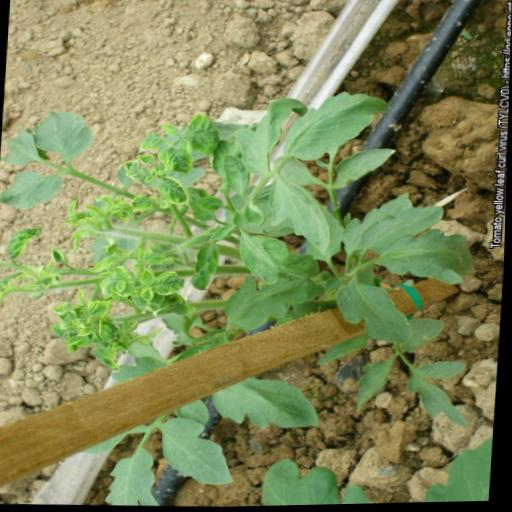Healthy: (281, 93, 395, 165), (251, 161, 332, 250), (217, 272, 318, 338), (371, 228, 478, 289), (208, 378, 319, 435), (152, 422, 240, 489), (333, 282, 419, 348), (358, 197, 444, 259), (97, 441, 171, 505), (0, 161, 76, 212), (30, 109, 97, 163), (329, 147, 393, 194), (351, 352, 397, 414), (217, 154, 254, 200)
Yellow Leaf Curl Virus: (178, 112, 221, 158), (138, 267, 186, 306), (6, 223, 42, 260), (153, 174, 191, 206), (154, 146, 194, 175), (91, 346, 122, 373), (87, 253, 122, 274), (136, 131, 164, 154), (127, 194, 155, 214), (120, 160, 145, 182), (88, 299, 113, 320), (49, 248, 69, 264), (160, 123, 179, 138), (136, 154, 154, 166)
